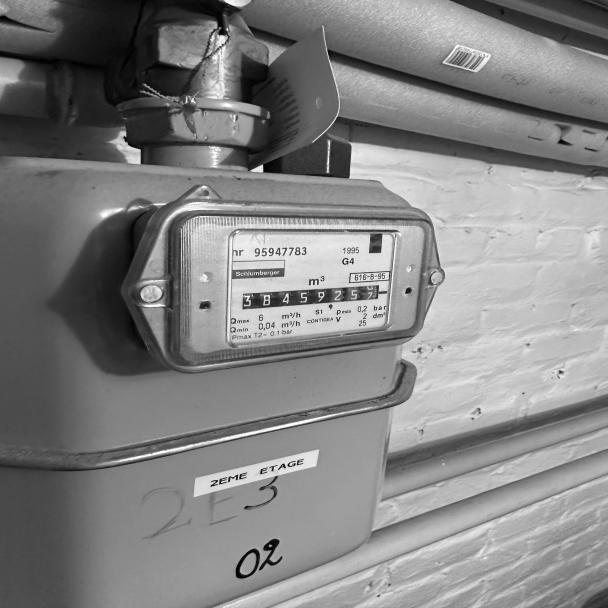2: (328, 284, 346, 310)
3: (236, 284, 328, 316), (239, 289, 261, 314)
4: (278, 288, 298, 310)
5: (296, 286, 314, 310), (346, 284, 364, 308)
7: (359, 282, 386, 308)
8: (259, 289, 281, 313)
9: (310, 288, 328, 310)
cm: (326, 282, 394, 308)
